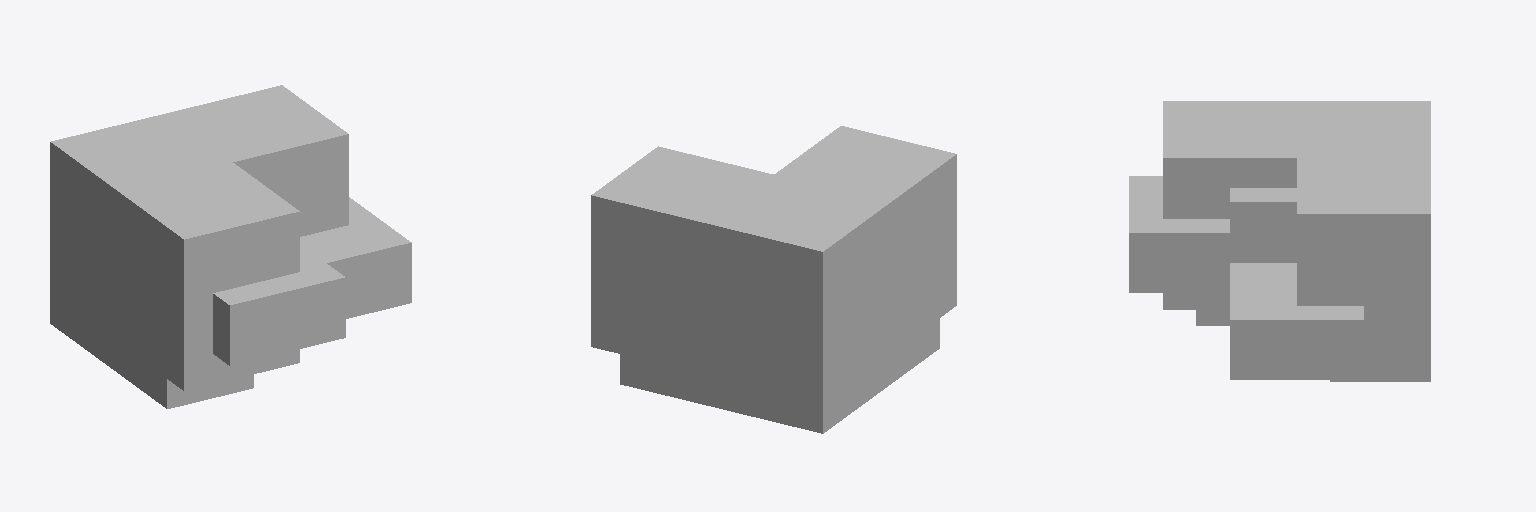
Rendered from cliff corner2.obj.
The picture shows the model from 3 angles: view 1: azimuth 30°, elevation 25°; view 2: azimuth 150°, elevation 25°; view 3: azimuth 270°, elevation 25°; orthographic projection.
Size of the model in its own units: 9 by 6 by 9.